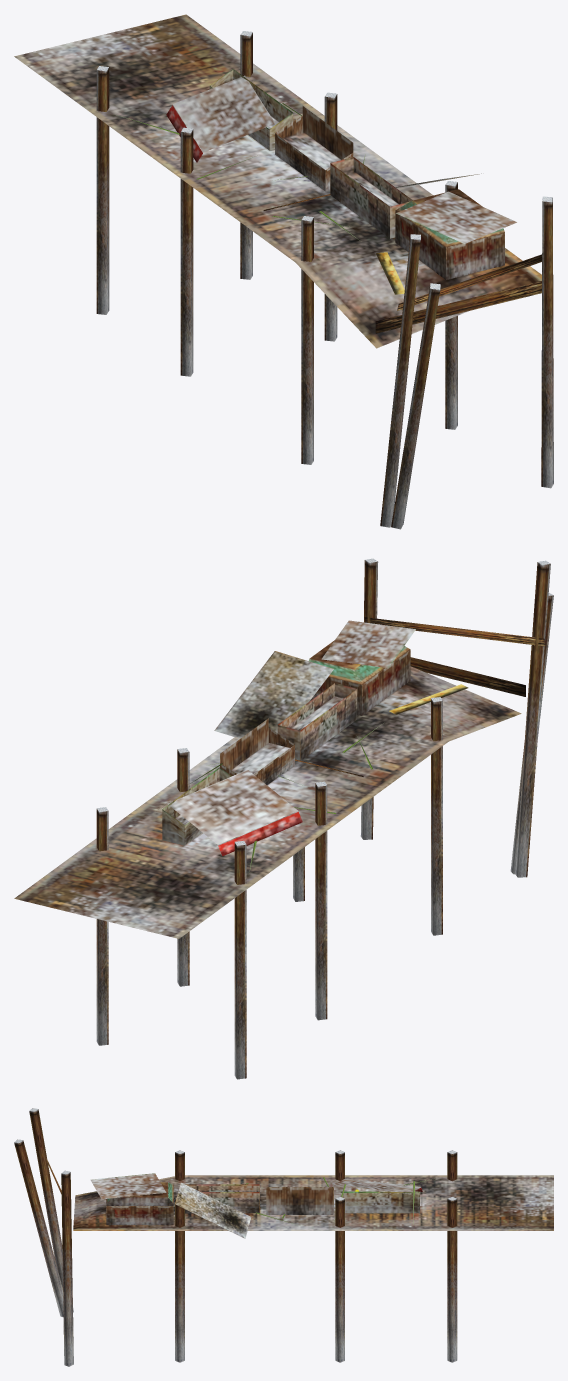
Rendered from Civilian - Civilian Building - Boat Docks 02 - Damaged and Snow and Night - CBNBoatDo2_dsn.glb.
3 views of the same model, one above another, from view 1: azimuth 30°, elevation 25°; view 2: azimuth 150°, elevation 25°; view 3: azimuth 270°, elevation 25° (orthographic). The views are drawn at different scales.
Parts seen in each view (by area): view 1: CBNBOATDO2_DSN; view 2: CBNBOATDO2_DSN; view 3: CBNBOATDO2_DSN.
Boxes of the visible parts, x1=… form: CBNBOATDO2_DSN: x1=14, y1=14, x2=553, y2=529; CBNBOATDO2_DSN: x1=14, y1=558, x2=553, y2=1079; CBNBOATDO2_DSN: x1=14, y1=1108, x2=553, y2=1366.
Size of the model in its own units: 26.87 by 40.55 by 96.65.
1 material, 1 textured.
